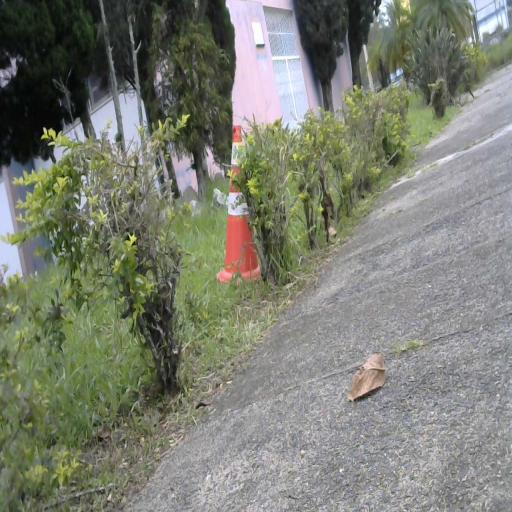cone: (217, 125, 264, 284)
